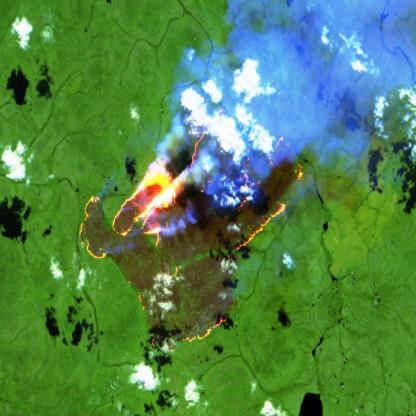fire: (79, 117, 304, 354)
